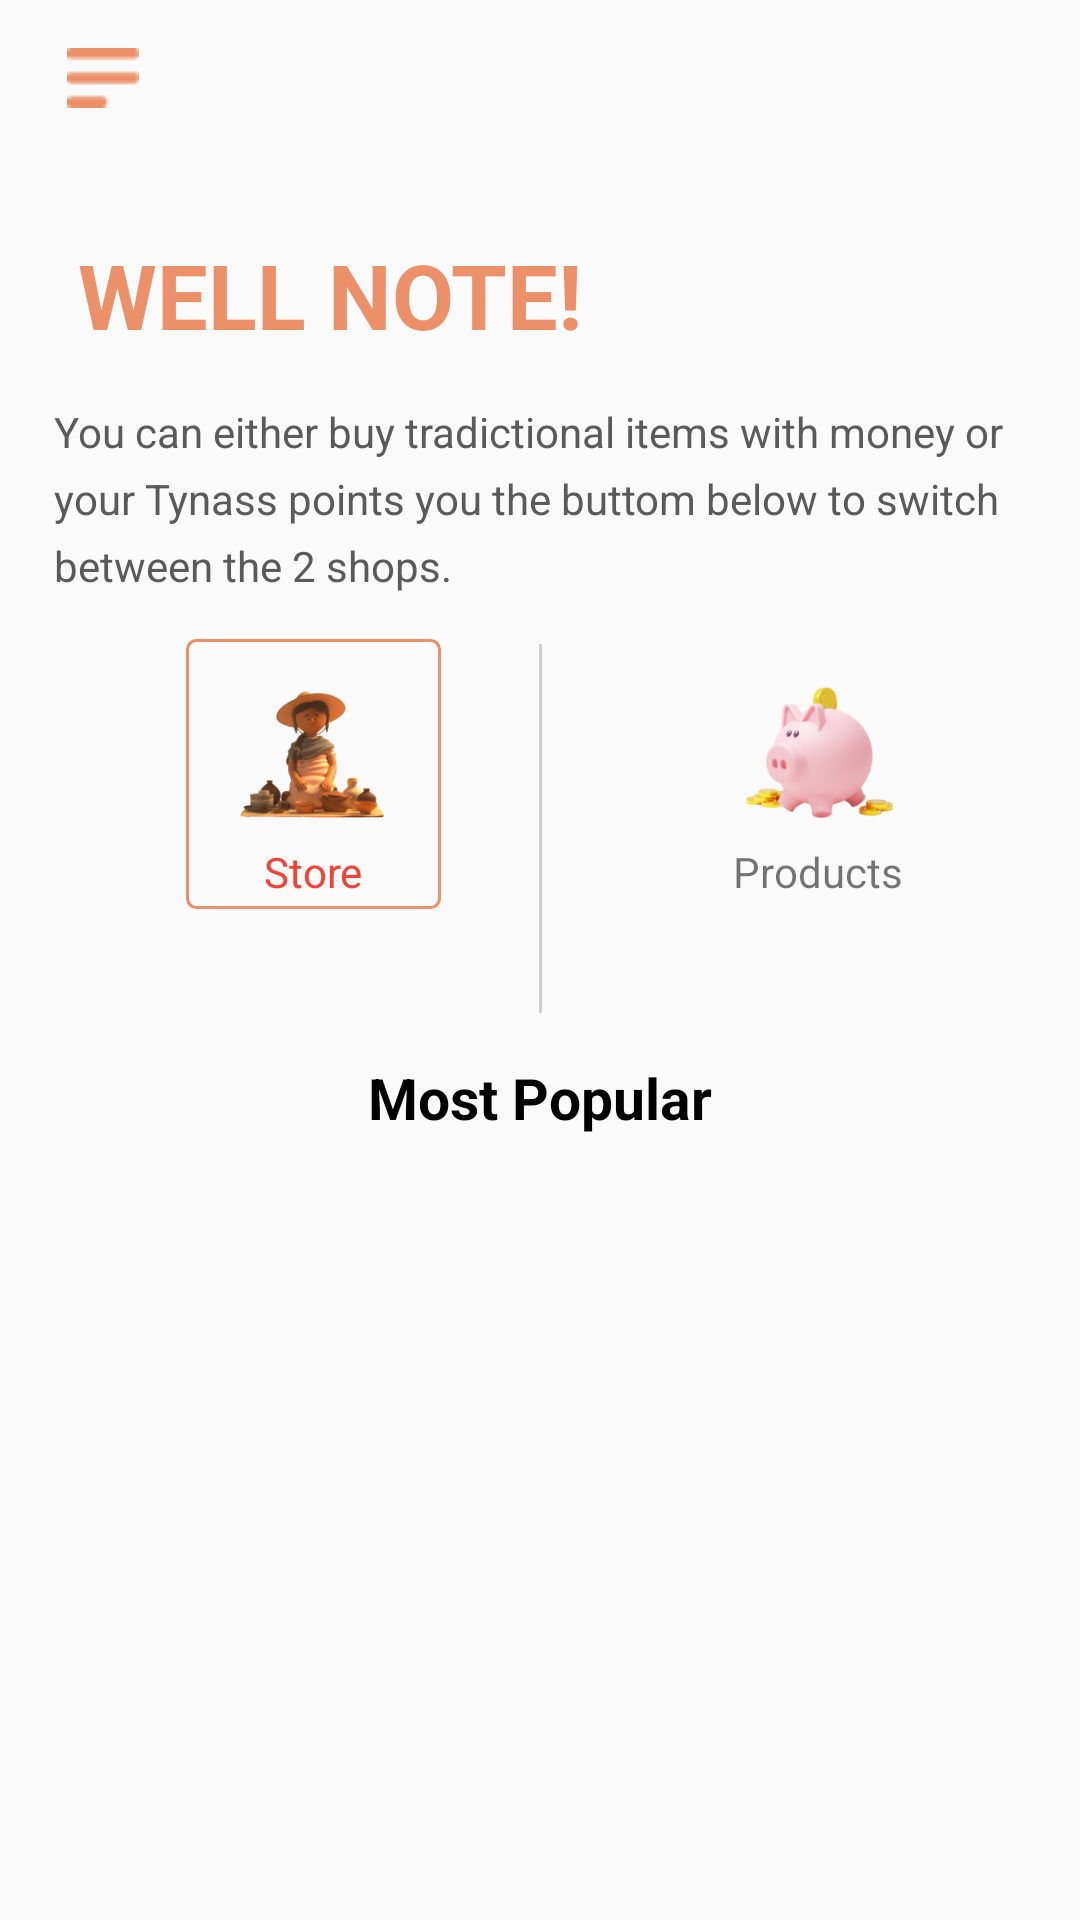

Where icons sit on this 1080×1920 app screen, as (x1, y1, x2, y2):
menu: (67, 48, 139, 108)
